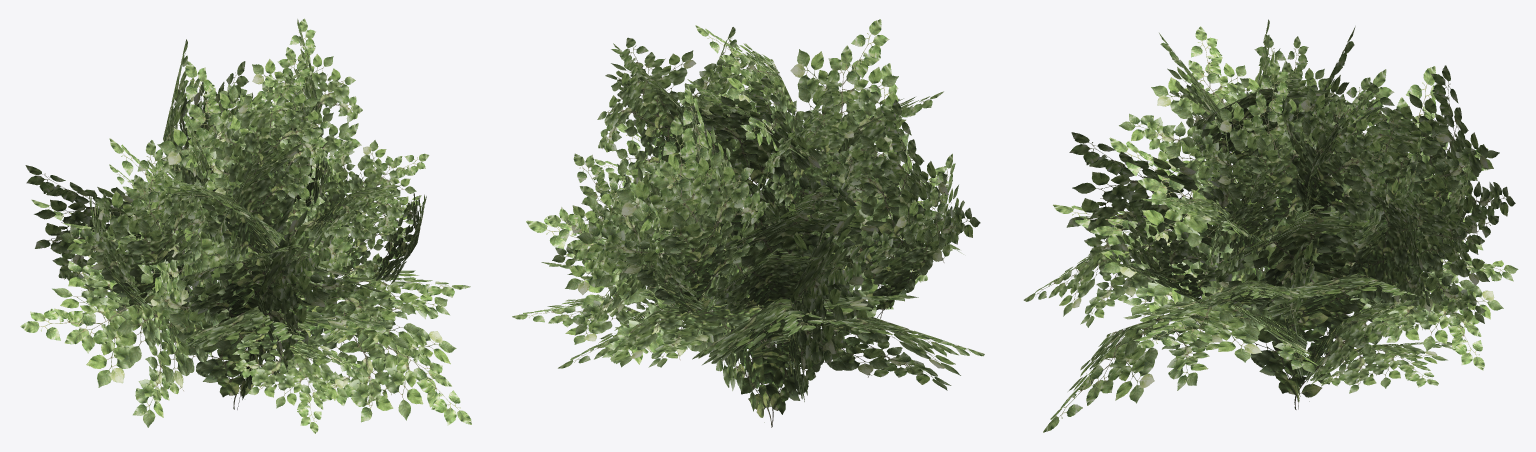
File: bush08_lod01.FBX
3 renders of one model, left to right at view 1: azimuth 30°, elevation 25°; view 2: azimuth 150°, elevation 25°; view 3: azimuth 270°, elevation 25°, orthographic. The views are drawn at different scales.
Visible parts, largest first — view 1: bush08_lod01; view 2: bush08_lod01; view 3: bush08_lod01.
Boxes of the visible parts, x1,y1,x2,y2 form: bush08_lod01: (20, 18, 471, 433); bush08_lod01: (512, 19, 984, 427); bush08_lod01: (1023, 19, 1518, 432).
Size of the model in its own units: 212 by 185 by 217.
Materials: 1 (1 with a texture image).
